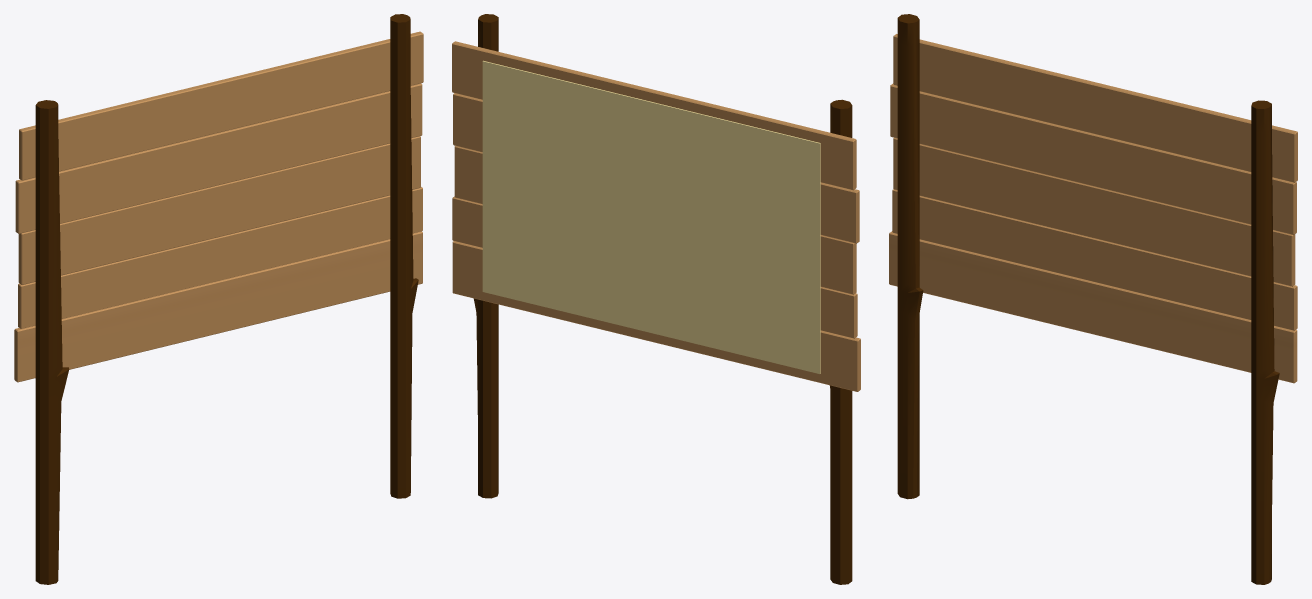
File: M_Sem04_Prop_Map_SBoewing.fbx
3 views of the same model, side by side, from view 1: azimuth 30°, elevation 25°; view 2: azimuth 150°, elevation 25°; view 3: azimuth 330°, elevation 25° (orthographic).
Visible parts, largest first — view 1: map_stand; view 2: paper, map_stand; view 3: map_stand.
Part boxes in pixels (box(x1,y1,x2,y2)): map_stand: box(14, 14, 423, 584); paper: box(482, 60, 820, 373); map_stand: box(452, 14, 860, 584); map_stand: box(889, 14, 1297, 584).
Size of the model in its own units: 195 by 218 by 11.97.
